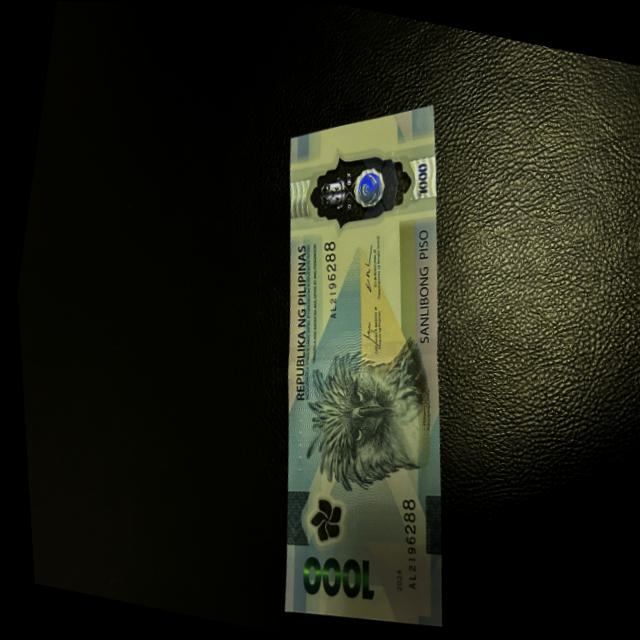clear_window: (298, 134, 422, 243)
eagle: (289, 332, 441, 504)
sampaguita: (293, 487, 346, 548)
